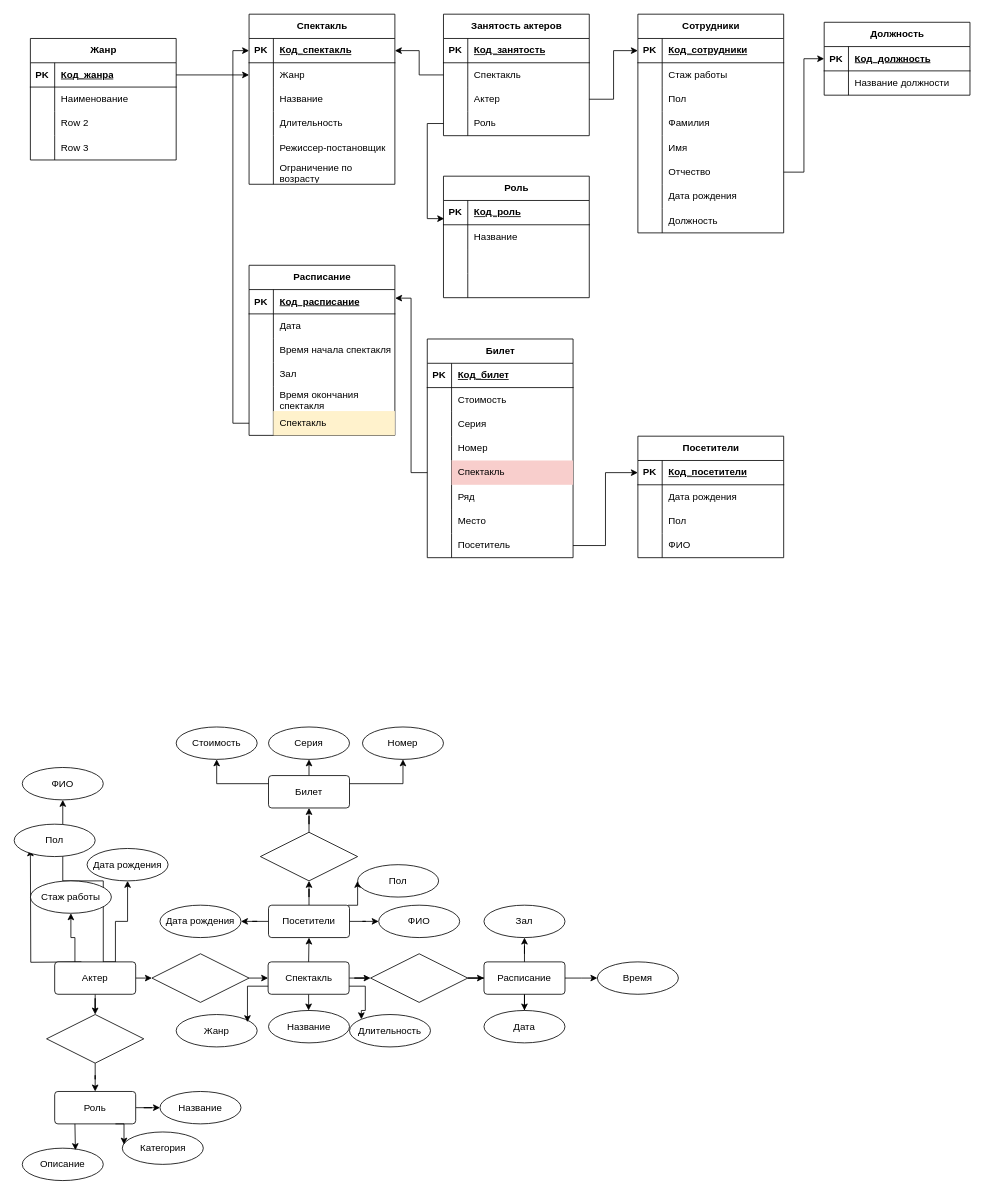
This 984x1195 diagram has some shape labels left out. The centre of each missing label's shape, as x and y in pixels:
"Играет" goes at point (95, 1038).
"Покупает" goes at point (309, 856).
"Приходит по" goes at point (419, 977).
"Участвует" goes at point (200, 977).
